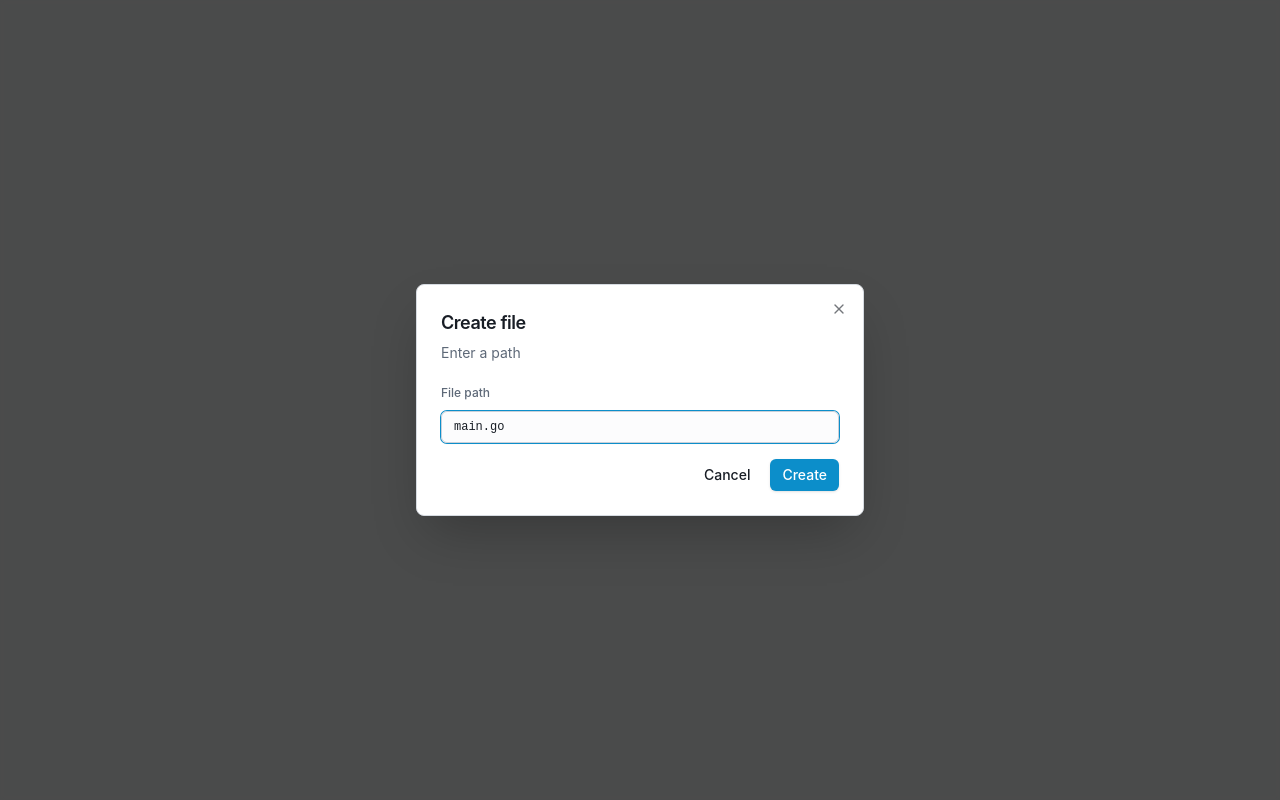
Scenario: PromptDialog › shows submit failures and stays open
Click the button "Create". click: point(805, 475)
box: 770,459 -> 839,491
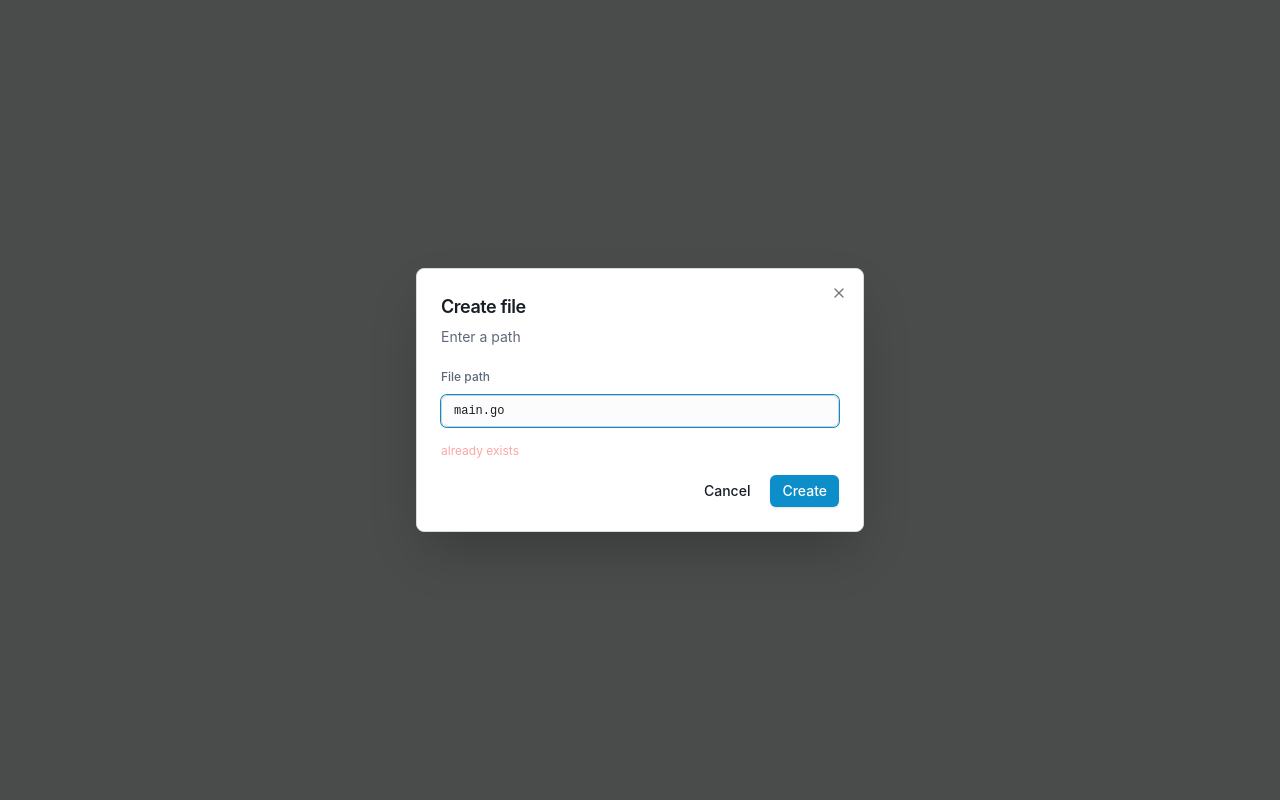
Check: the text "already exists" is shown, box 441,443 -> 519,458
